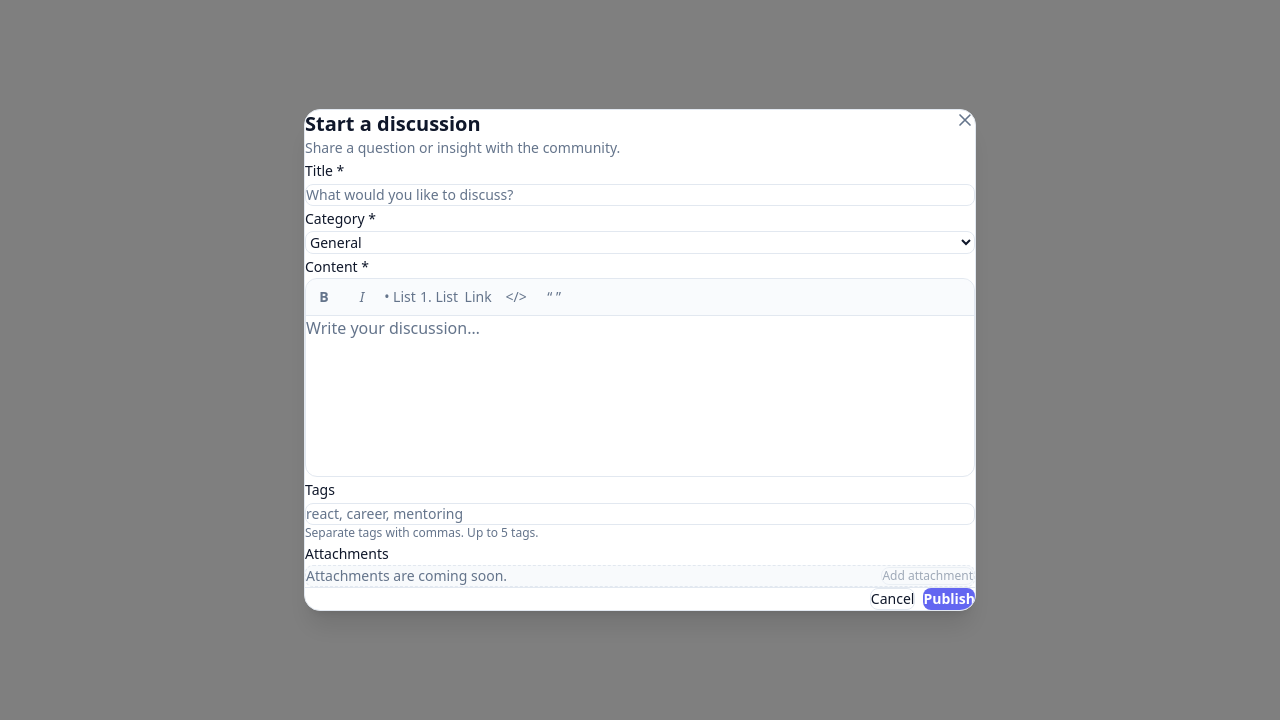
StartDiscussionModal › keeps the draft and shows the API error when publishing fails
The width and height of the screenshot is (1280, 720).
In the field labelled "Title *": (640, 195) [305,184,975,206], type "How do I prep for interviews?"
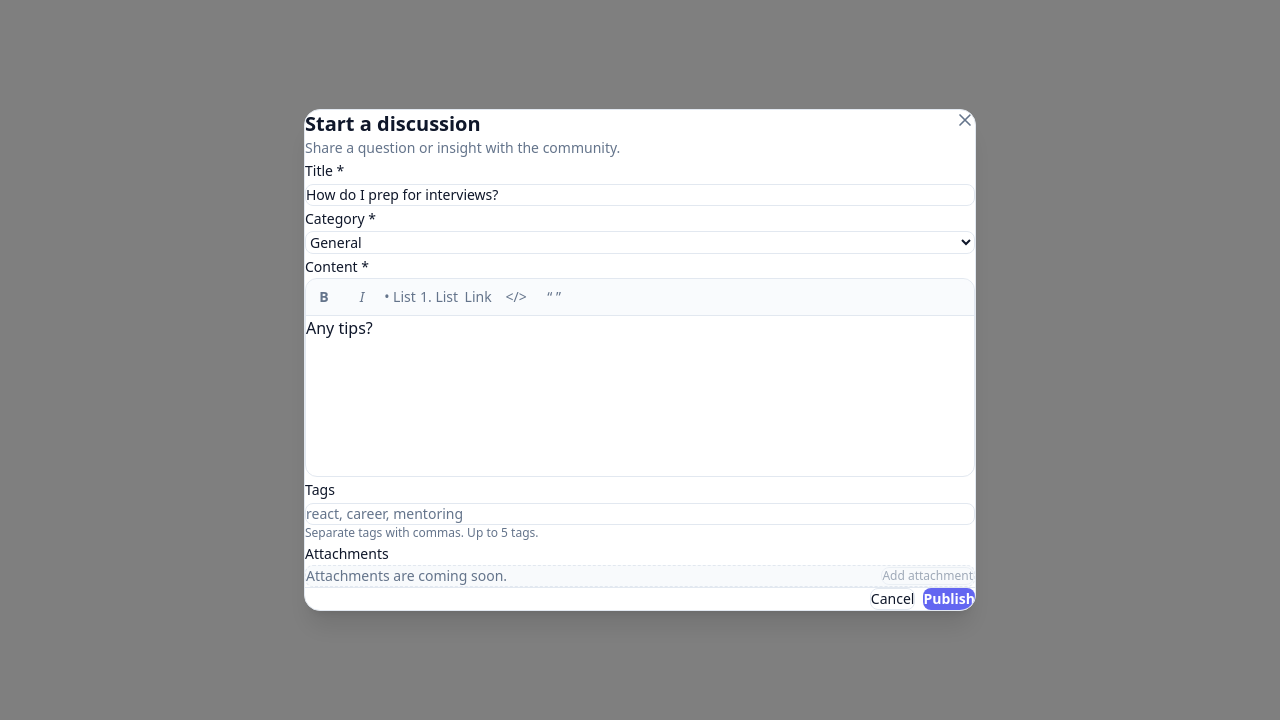
Select "Career" in the dropdown labelled "Category *": (640, 242) [305,231,975,254]
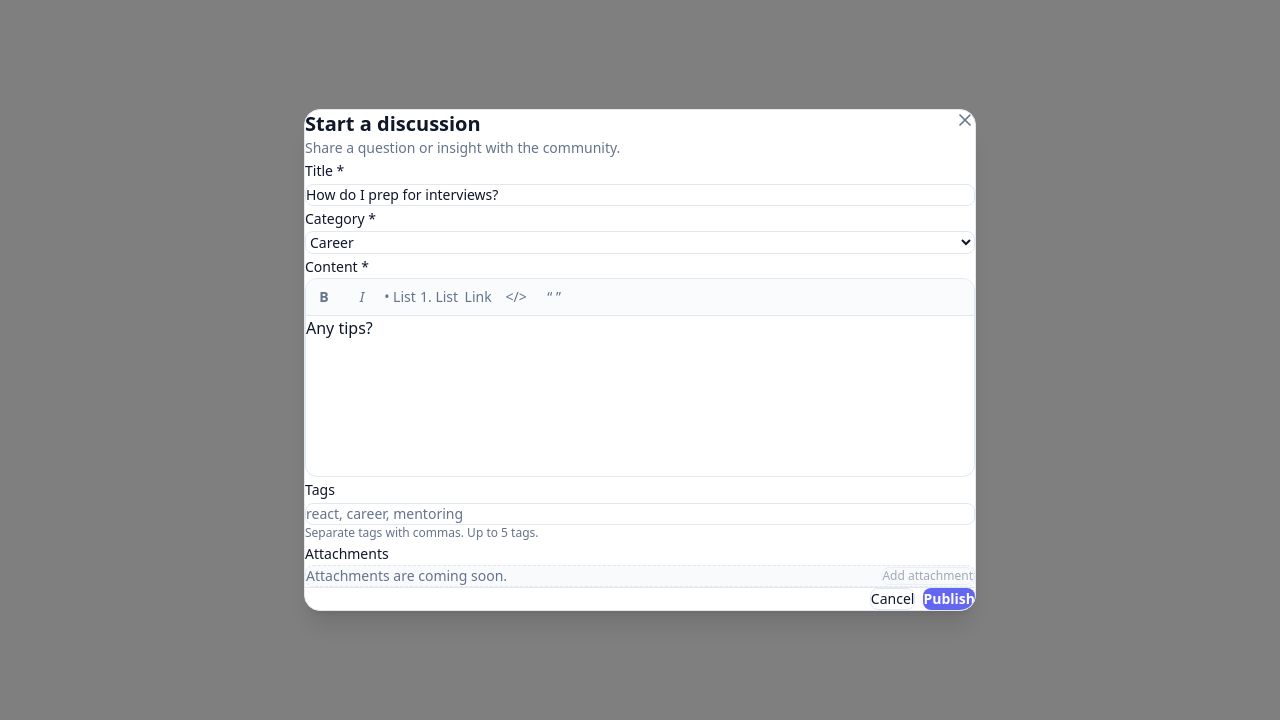
Click the button "Publish": (949, 599) [923,588,975,610]
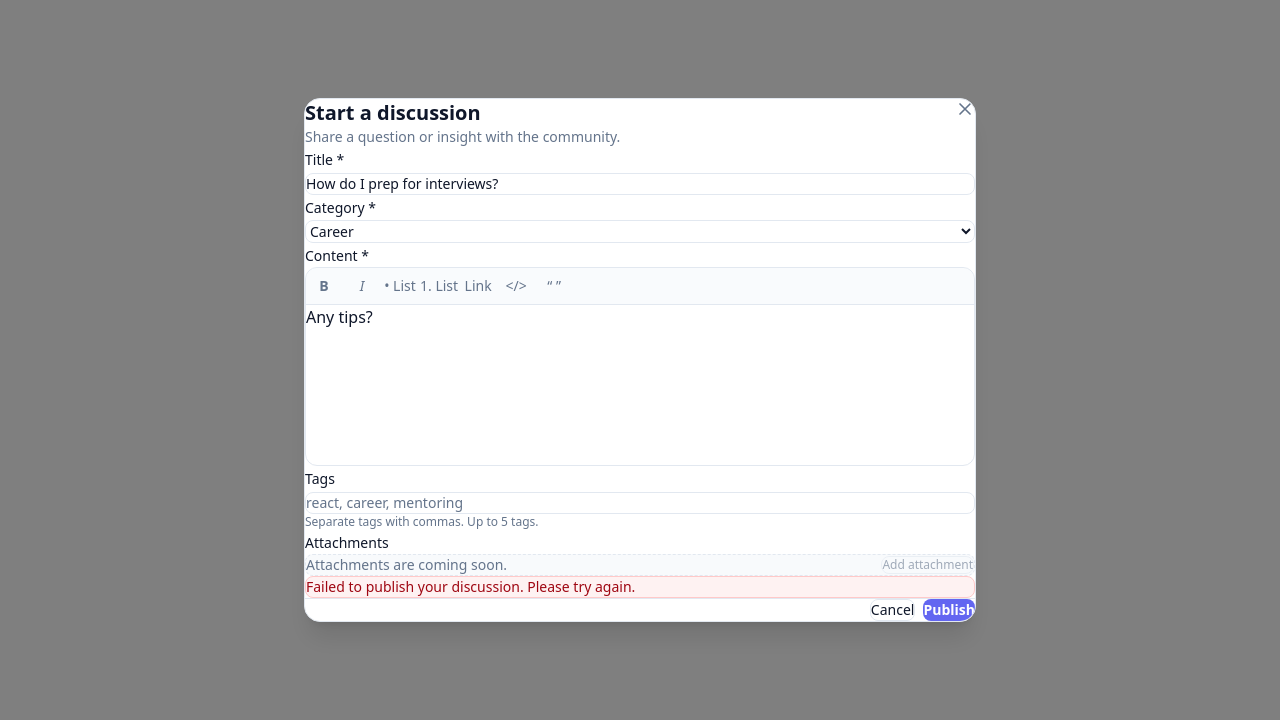
Check: the text "Failed to publish your discussion. Please try again." is shown, box [305,576,975,598]
